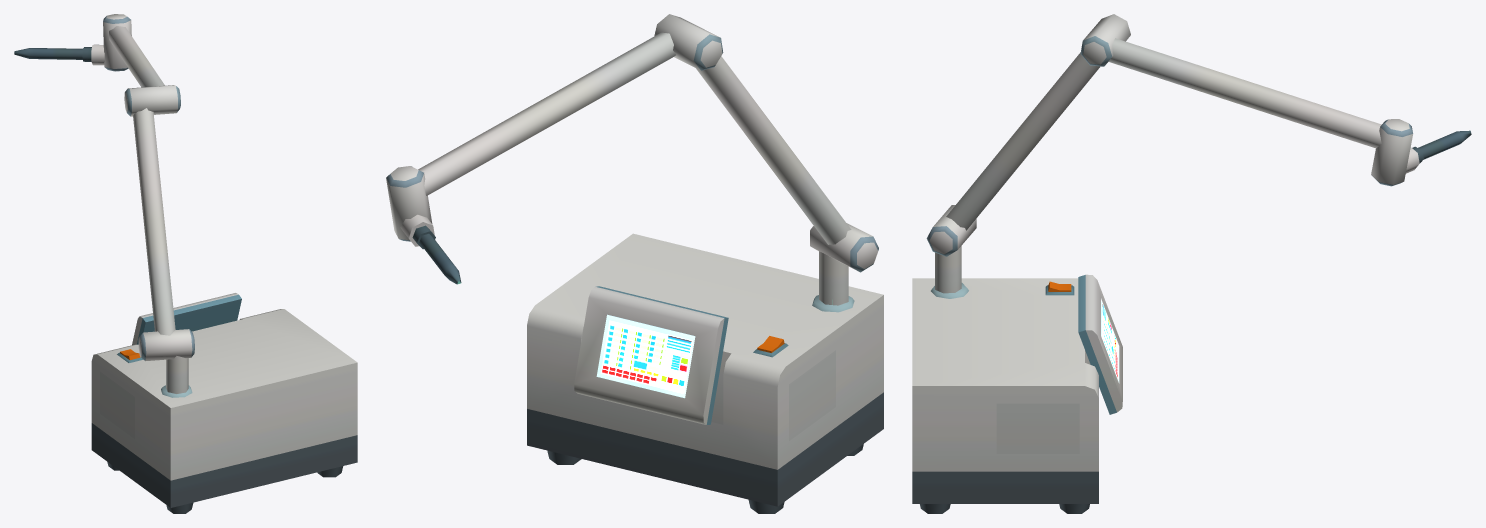
File: Pfb_JLAB_Surgical_Laser.fbx
The picture shows the model from 3 angles, left to right: view 1: azimuth 30°, elevation 25°; view 2: azimuth 150°, elevation 25°; view 3: azimuth 270°, elevation 25°; orthographic projection. The views are drawn at different scales.
Parts seen in each view (by area): view 1: Color; view 2: Color, Monitors; view 3: Color, Monitors.
Boxes of the visible parts, x1,y1,x2,y2 form: Color: (14, 14, 357, 513); Color: (386, 14, 883, 513); Monitors: (596, 314, 695, 398); Color: (912, 14, 1471, 513); Monitors: (1101, 298, 1119, 383).
Size of the model in its own units: 0.4794 by 0.8254 by 0.9882.
2 materials, 2 textured.
